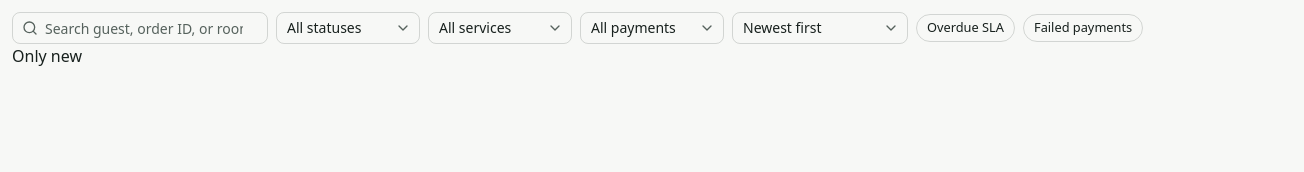
Test: orders search and URL state › a trailing space survives the debounced URL update
The image size is (1304, 172).
Type "Maya " into the field labelled "Search guest, order ID, or room" at (140, 28), box [12, 12, 268, 44]
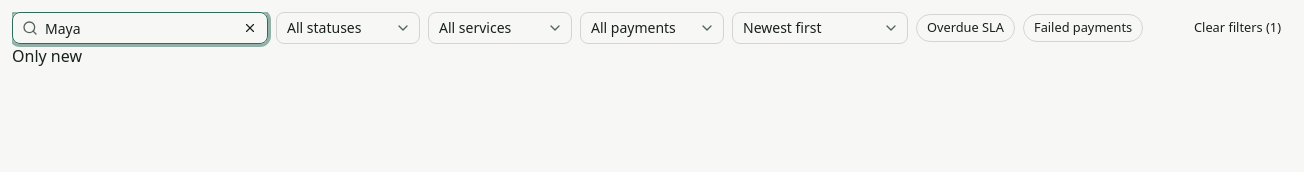
Type "Chen" into the field named "Search guest, order ID, or room" at (140, 28), box [12, 12, 268, 44]
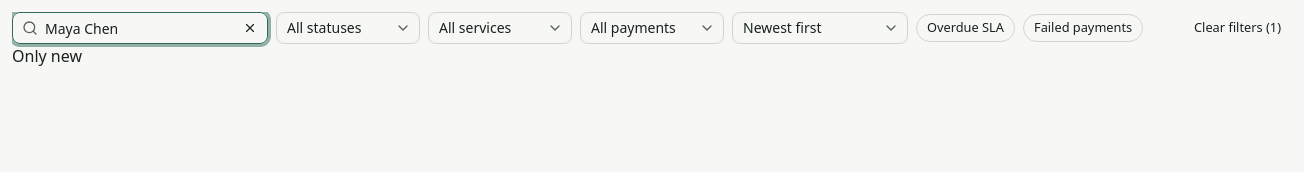
Expected: the field named "Search guest, order ID, or room" holds "Maya Chen", [12, 12, 268, 44]
